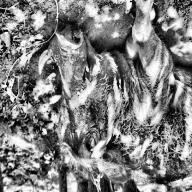boar: (38, 0, 191, 188)
